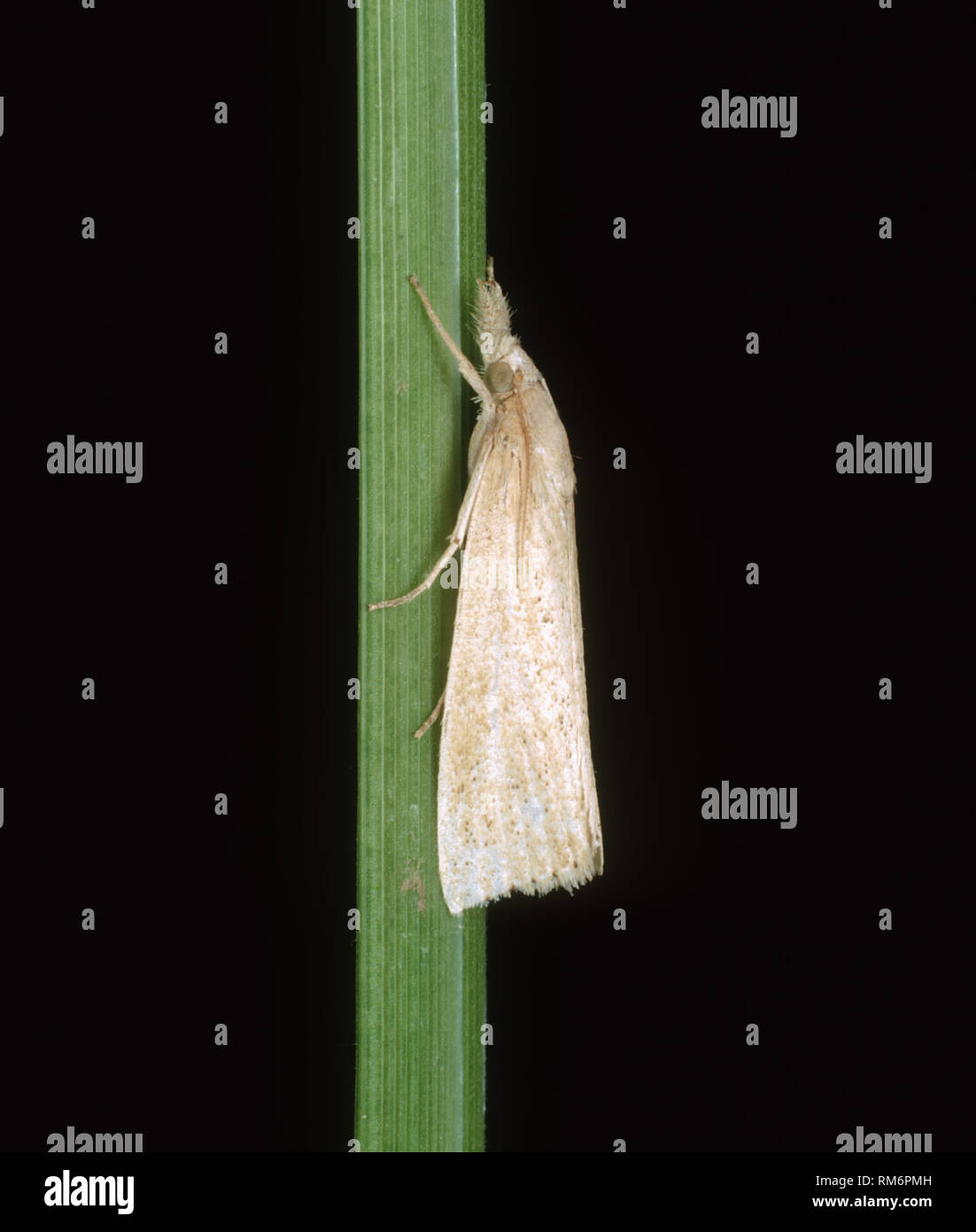Crambidae: (378, 250, 600, 904)
